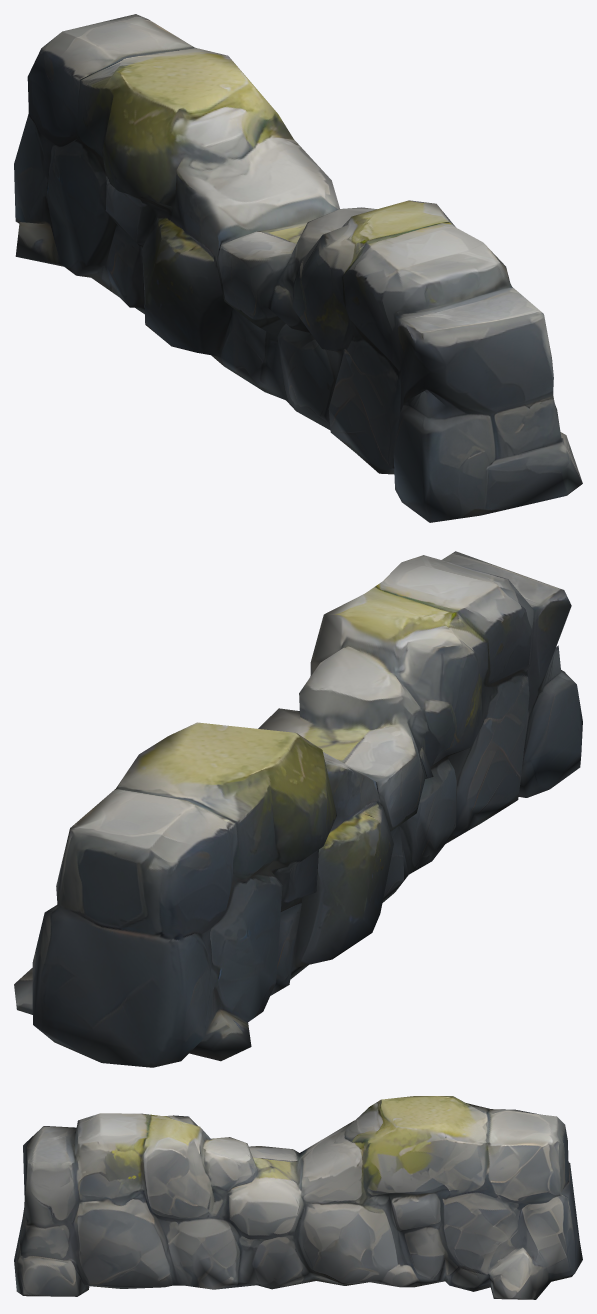
File: arena_wall2b.glb
The picture shows the model from 3 angles, top to bottom: view 1: azimuth 30°, elevation 25°; view 2: azimuth 150°, elevation 25°; view 3: azimuth 270°, elevation 25°; orthographic projection. The views are drawn at different scales.
Visible parts, largest first — view 1: tripo_node_470cab1f-fb67-4cc1-ba71-bb4e3f44f1d7; view 2: tripo_node_470cab1f-fb67-4cc1-ba71-bb4e3f44f1d7; view 3: tripo_node_470cab1f-fb67-4cc1-ba71-bb4e3f44f1d7.
Boxes of the visible parts, box(x1,y1,x2,y2) form: tripo_node_470cab1f-fb67-4cc1-ba71-bb4e3f44f1d7: box(14, 14, 582, 522); tripo_node_470cab1f-fb67-4cc1-ba71-bb4e3f44f1d7: box(14, 551, 582, 1067); tripo_node_470cab1f-fb67-4cc1-ba71-bb4e3f44f1d7: box(14, 1096, 582, 1299).
Size of the model in its own units: 0.3191 by 0.2947 by 1.
Materials: 1 (1 with a texture image).
